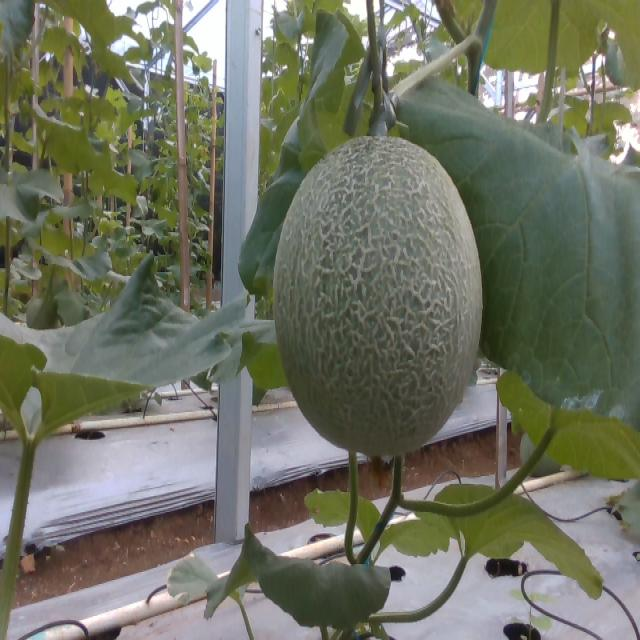melon: (275, 137, 482, 456)
